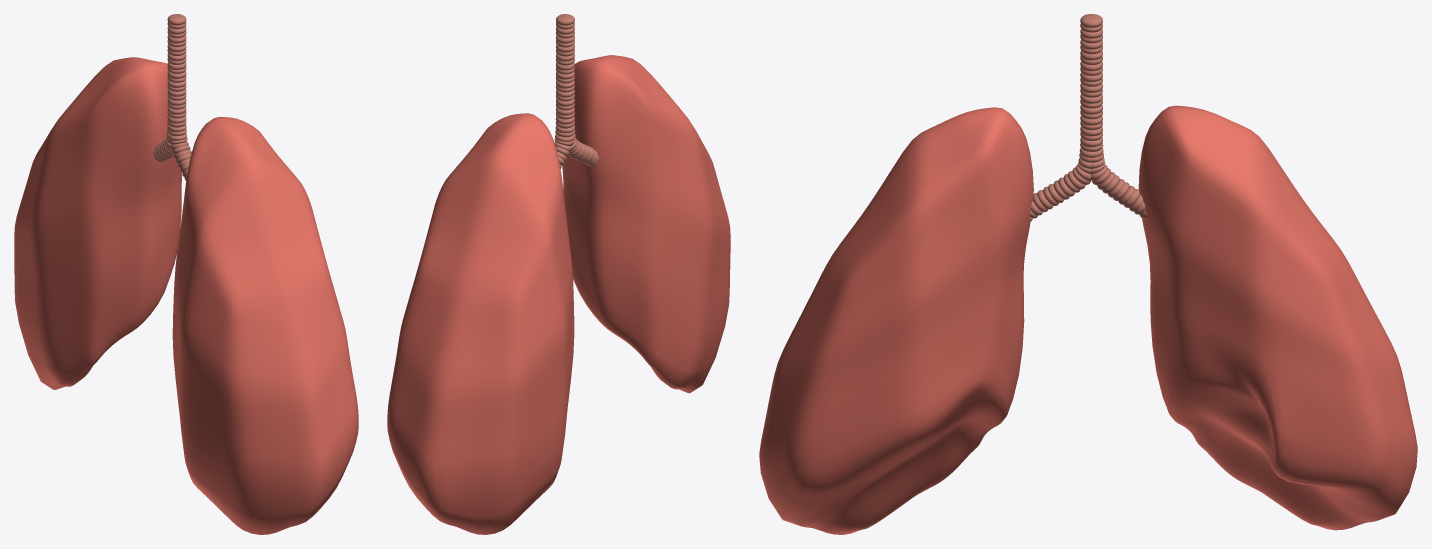
The model's file is pulmones.fbx.
3 views of the same model, side by side, from view 1: azimuth 30°, elevation 25°; view 2: azimuth 150°, elevation 25°; view 3: azimuth 270°, elevation 25° (orthographic). The views are drawn at different scales.
Visible parts, largest first — view 1: Cube.002; view 2: Cube.002; view 3: Cube.002.
Part boxes in pixels (x1,y1,x2,y2): Cube.002: (14, 14, 358, 534); Cube.002: (387, 14, 730, 534); Cube.002: (759, 14, 1417, 534).
Bounding box in the file's own units: 228 × 667 × 749.
